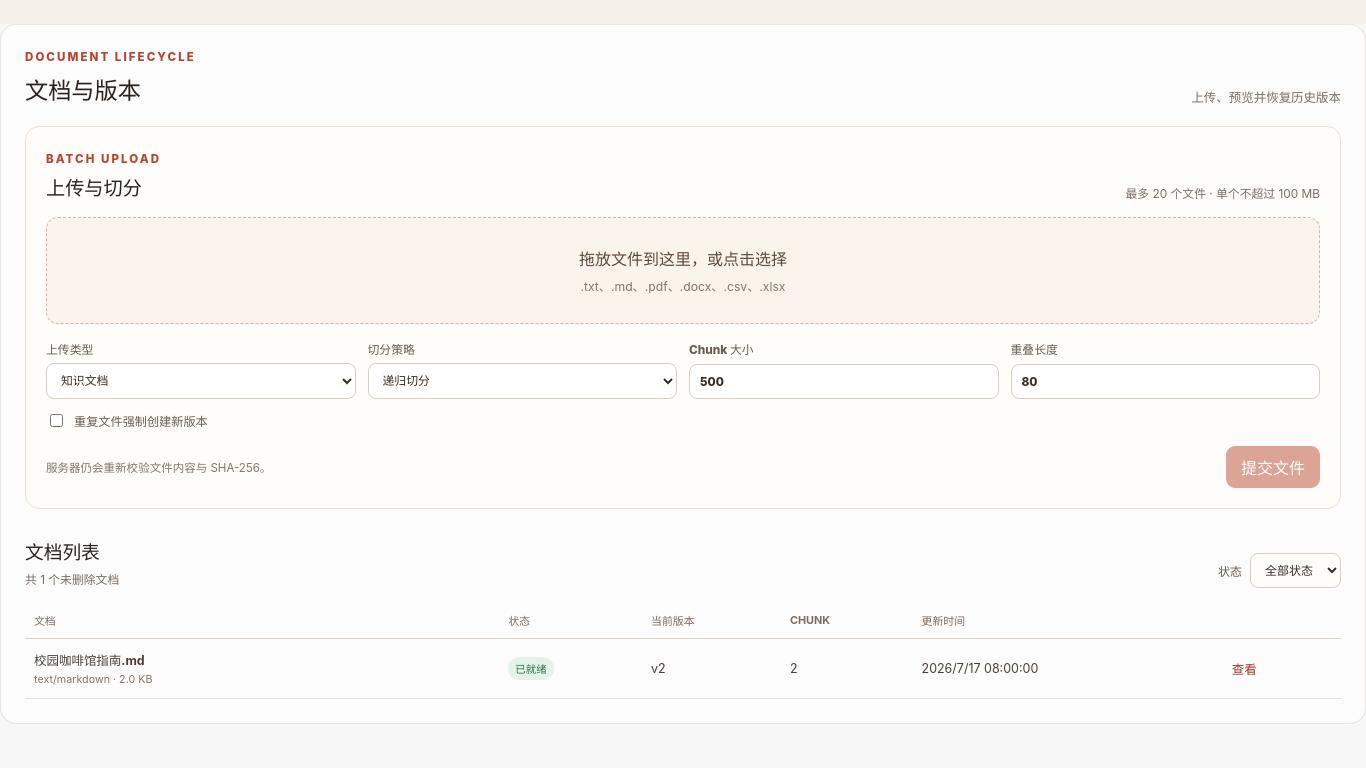
Test case: KnowledgeDocumentWorkspace › requires confirmation before submitting a rollback task
Click the button "查看": (1244, 668) [1226, 658, 1263, 678]
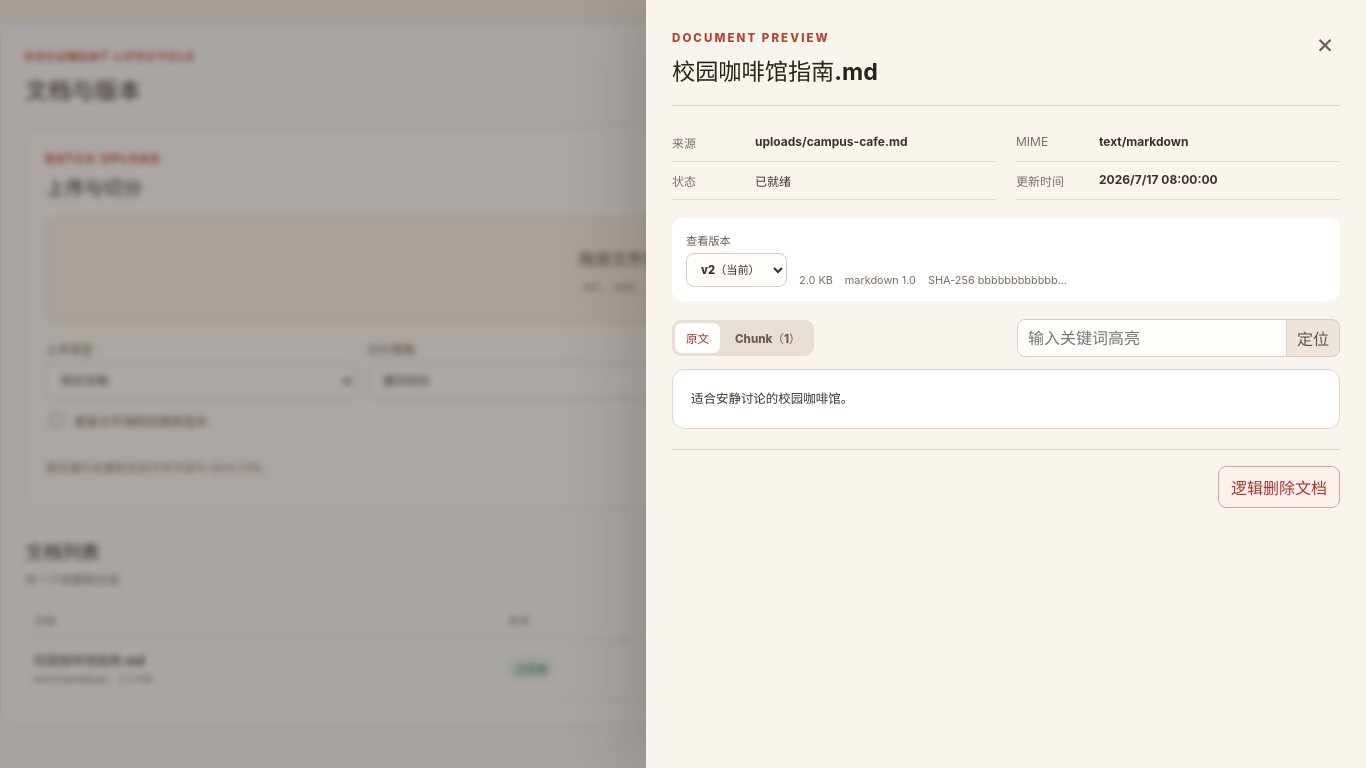
Select "v1" in the dropdown labelled "查看版本": (736, 270) [686, 253, 787, 287]
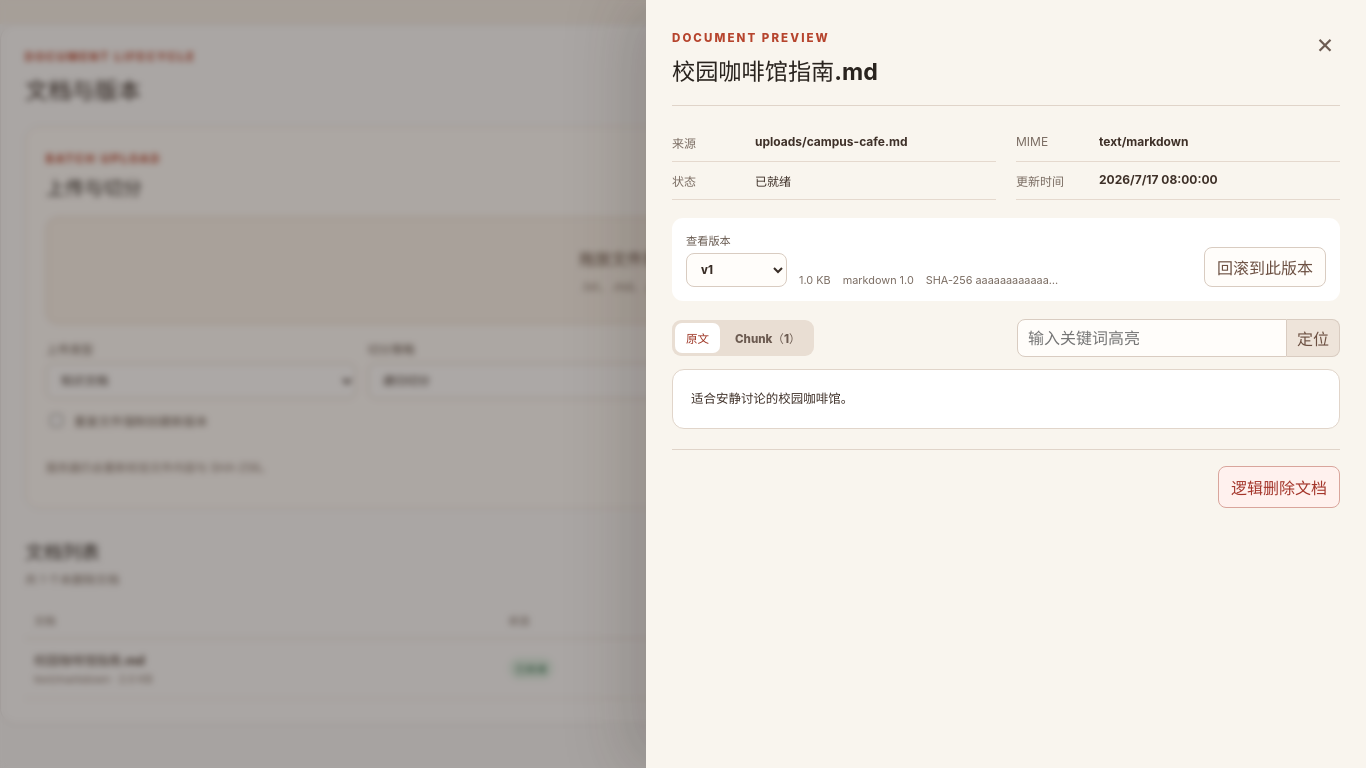
Click the button "回滚到此版本": (1265, 267) [1204, 247, 1326, 287]
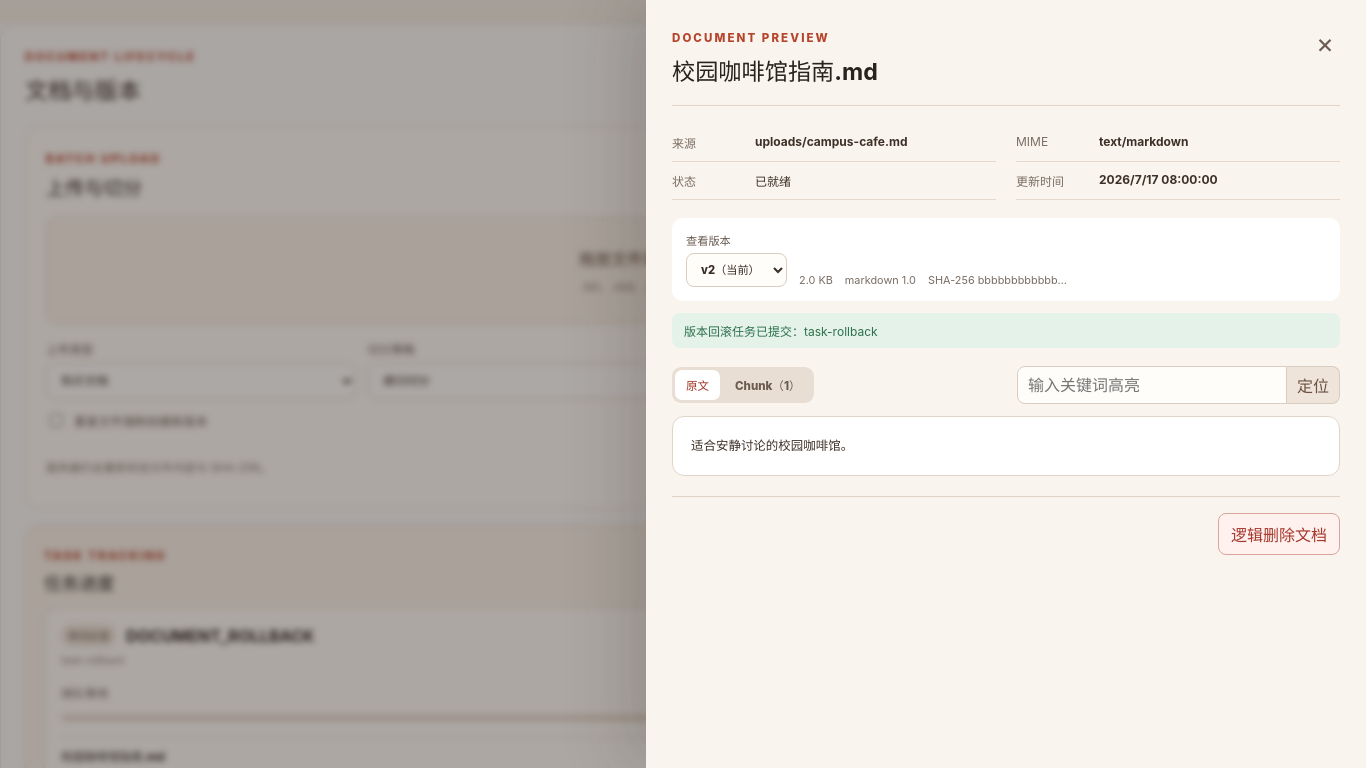
Expected: the text "版本回滚任务已提交：task-rollback" is shown, [672, 313, 1340, 348]
